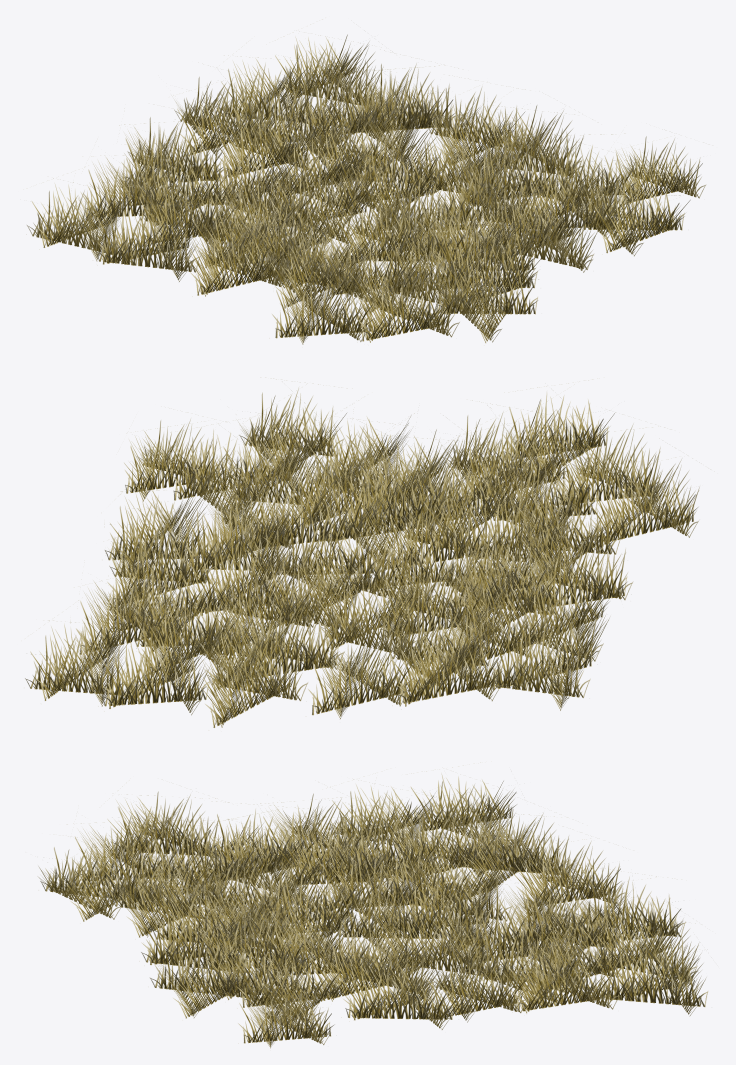
File: grass_large_2_tall.glb
The picture shows the model from 3 angles, top to bottom: view 1: azimuth 30°, elevation 25°; view 2: azimuth 150°, elevation 25°; view 3: azimuth 270°, elevation 25°; orthographic projection. The views are drawn at different scales.
Visible parts, largest first — view 1: grass_large_2_tall; view 2: grass_large_2_tall; view 3: grass_large_2_tall.
Boxes of the visible parts, bbox=[...] form: grass_large_2_tall: bbox=[27, 34, 705, 344]; grass_large_2_tall: bbox=[25, 388, 699, 727]; grass_large_2_tall: bbox=[38, 775, 707, 1048].
Size of the model in its own units: 56.06 by 8.05 by 64.3.
1 material, 1 textured.
